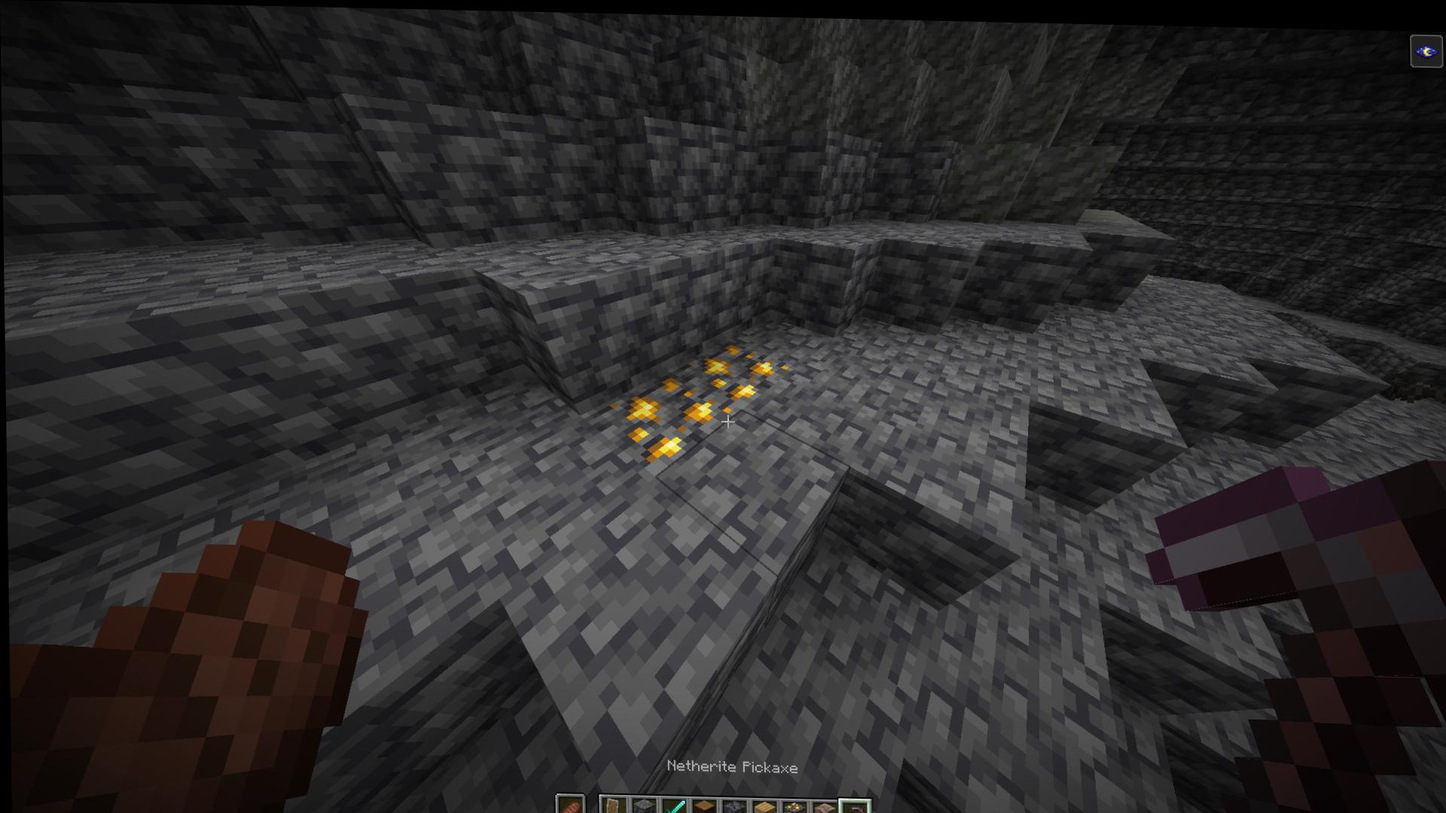gold ore: (588, 373, 724, 459), (689, 335, 787, 402)
